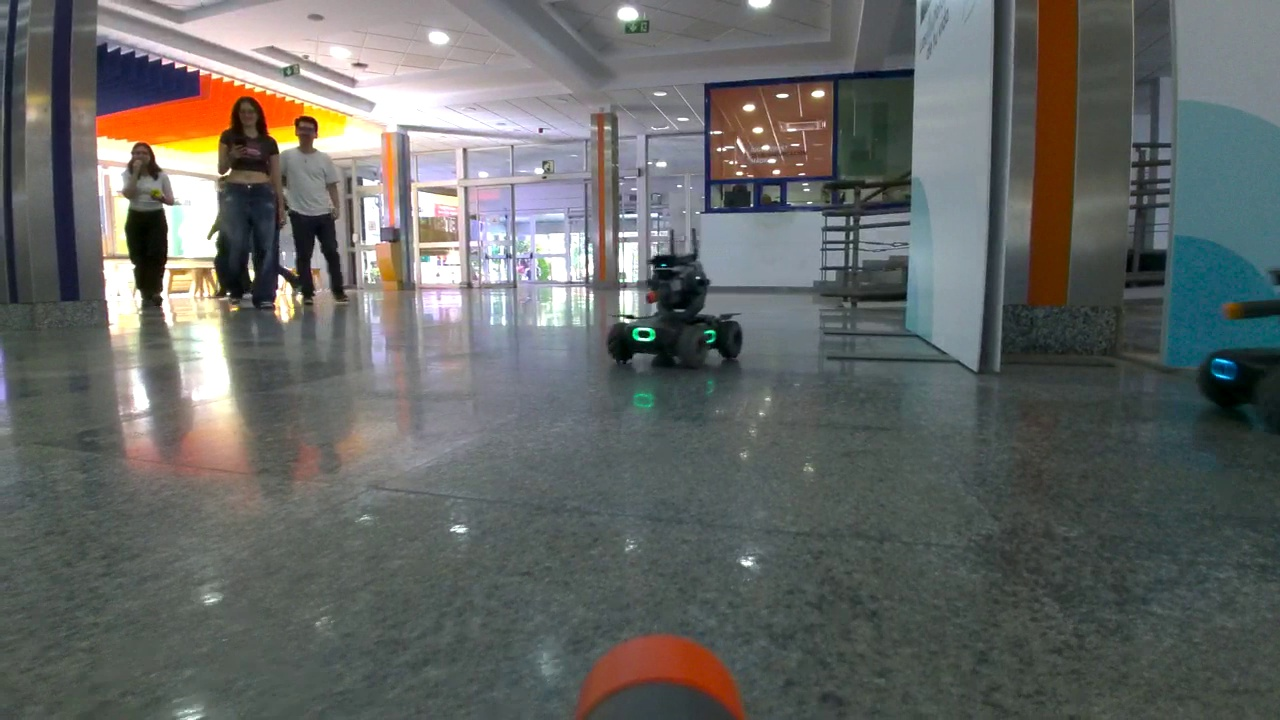robot: (609, 229, 743, 370), (1196, 266, 1280, 435)
